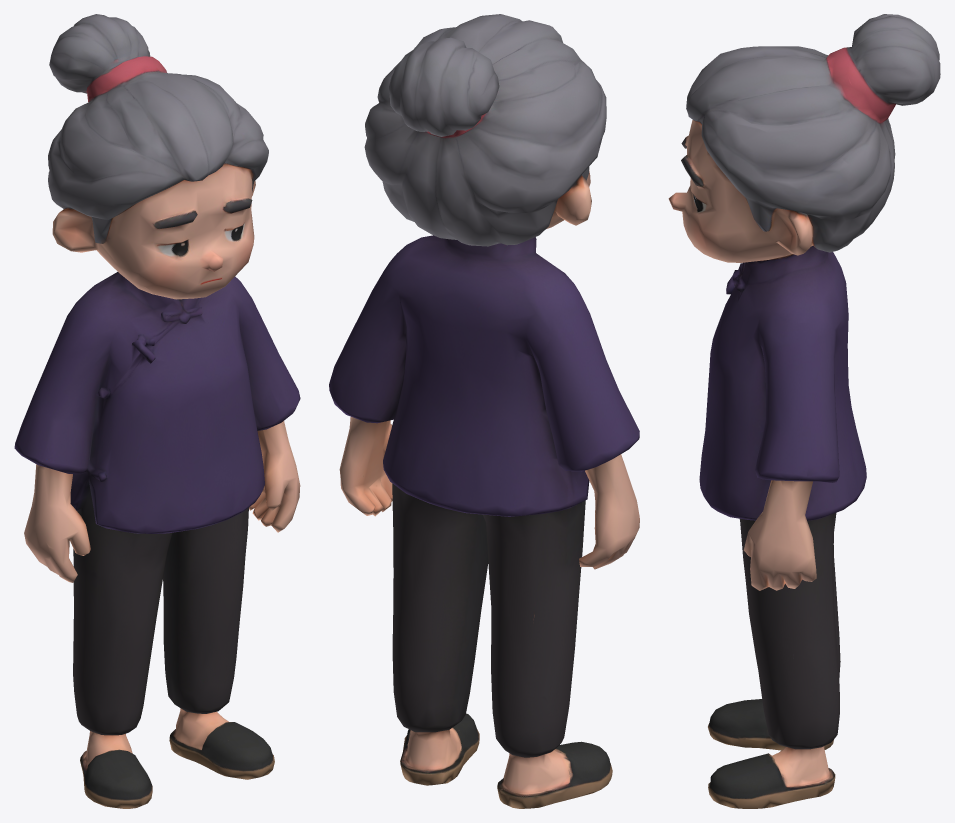
Rendered from granny.glb.
The picture shows the model from 3 angles, left to right: view 1: azimuth 30°, elevation 25°; view 2: azimuth 150°, elevation 25°; view 3: azimuth 270°, elevation 25°; orthographic projection. The views are drawn at different scales.
Parts seen in each view (by area): view 1: tripo_node_a3d5c919-2f98-41cc-8e6b-6c9d0334f1a8; view 2: tripo_node_a3d5c919-2f98-41cc-8e6b-6c9d0334f1a8; view 3: tripo_node_a3d5c919-2f98-41cc-8e6b-6c9d0334f1a8.
Part boxes in pixels (x1=…): tripo_node_a3d5c919-2f98-41cc-8e6b-6c9d0334f1a8: x1=14, y1=14, x2=300, y2=808; tripo_node_a3d5c919-2f98-41cc-8e6b-6c9d0334f1a8: x1=329, y1=14, x2=639, y2=808; tripo_node_a3d5c919-2f98-41cc-8e6b-6c9d0334f1a8: x1=668, y1=14, x2=940, y2=808.
Bounding box in the file's own units: 0.3984 × 1 × 0.3323.
1 material, 1 textured.
